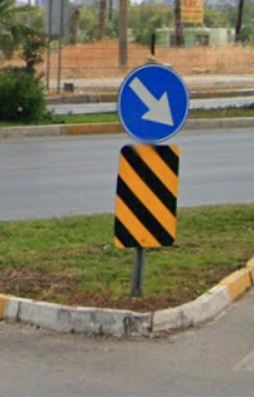Sagdan Git: (119, 70, 190, 140)
